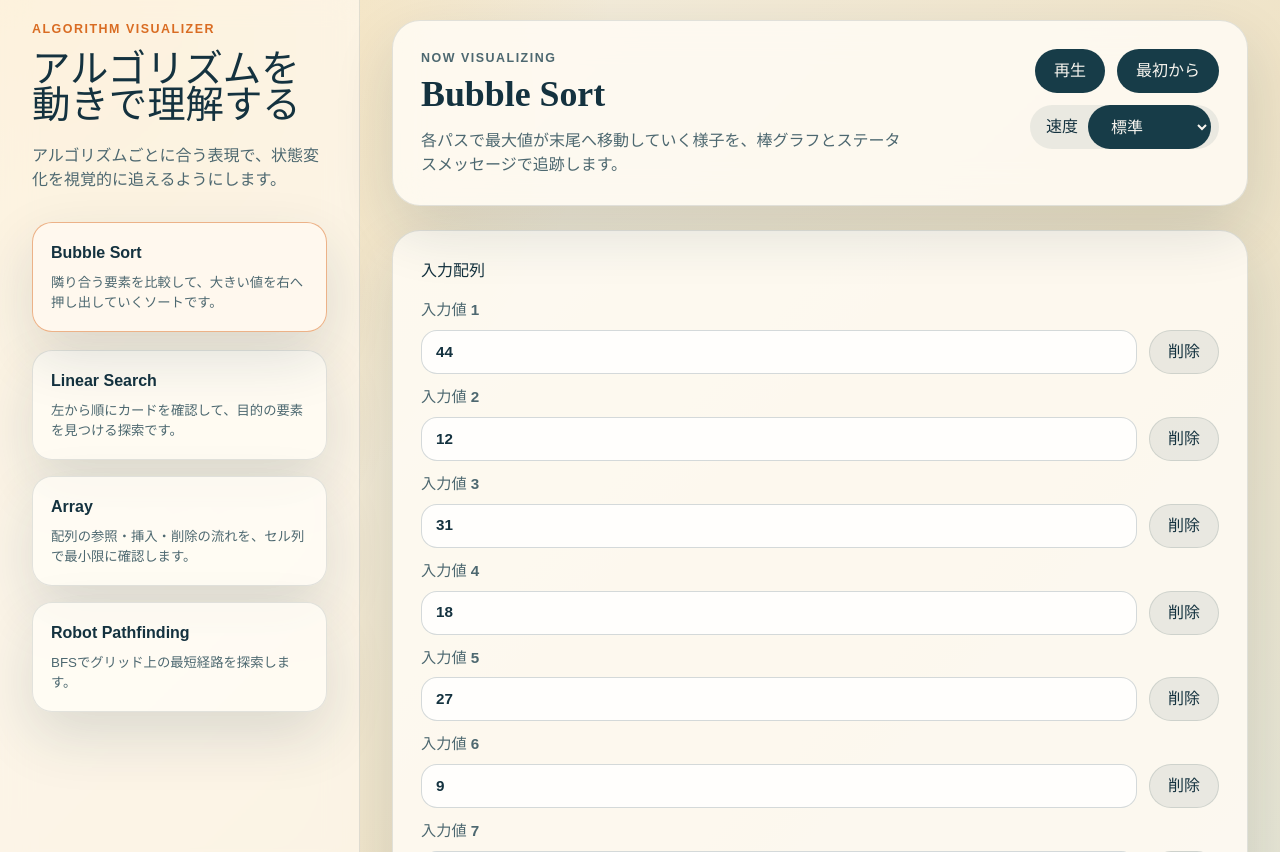
App › shows validation errors without replacing the last applied visualization
This screenshot has width=1280, height=852.
Click the button "再生": (1070, 71) [1035,49,1105,93]
Wait 900 ms
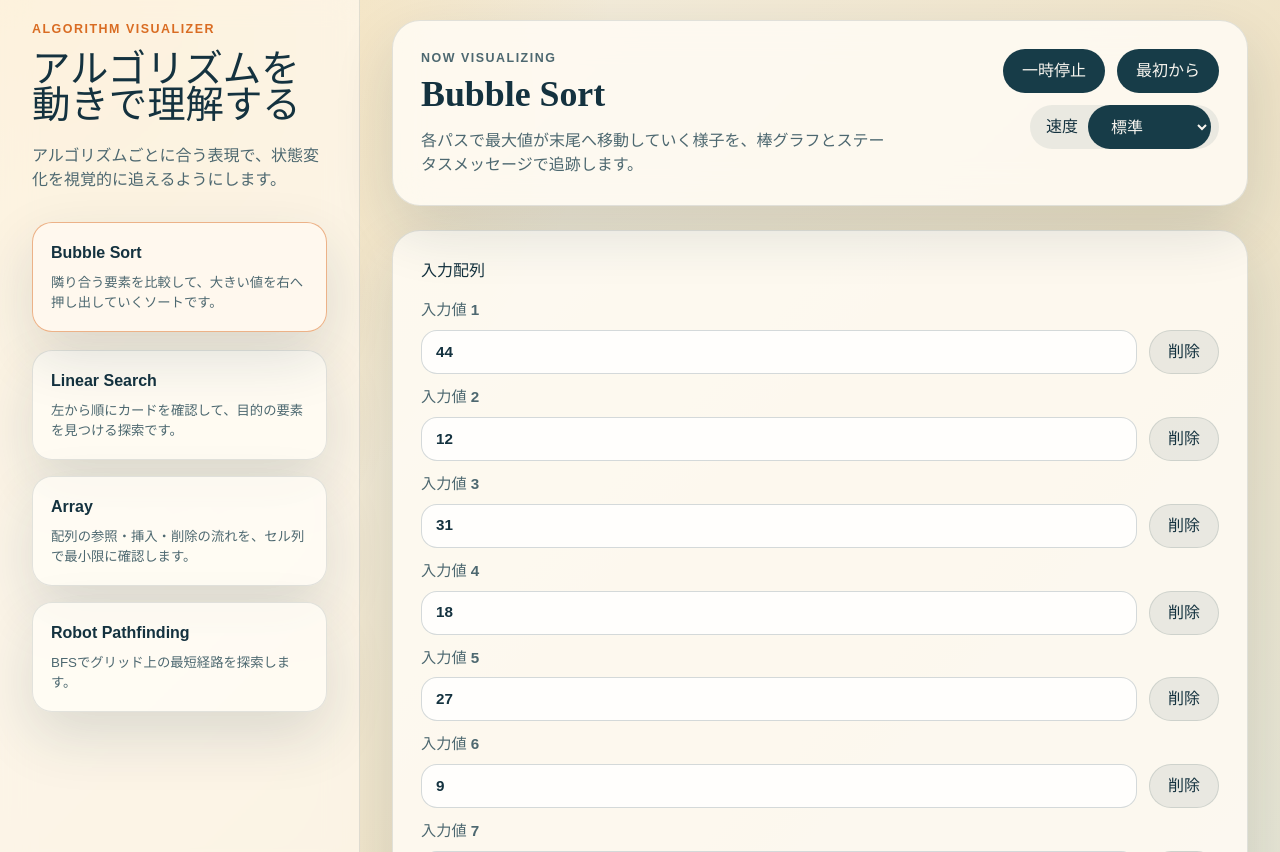
Clear the number field labelled "入力値 1": (779, 352) [421,330,1137,374]
(page scrolled)
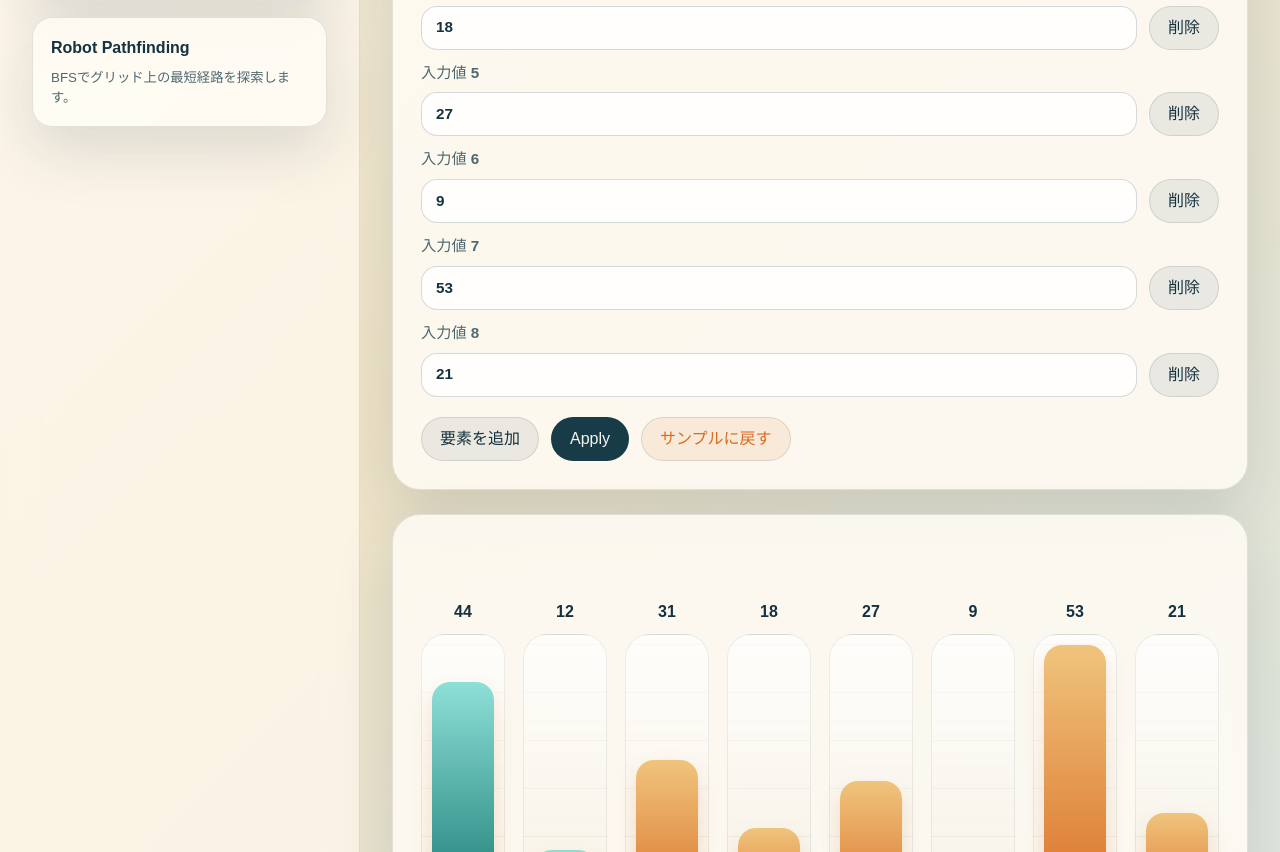
Click the button "Apply": (590, 439) [551,417,629,461]
(page scrolled)
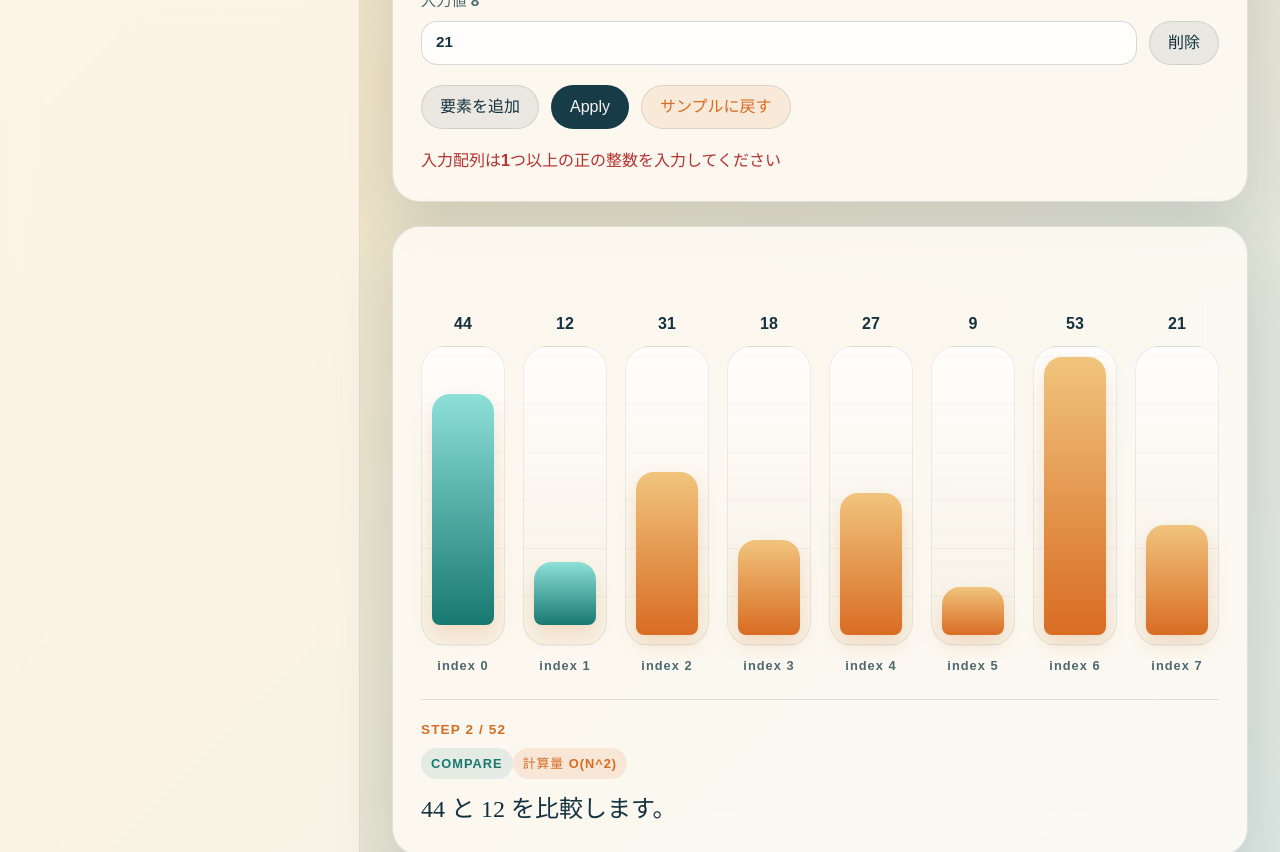
Expected: the text "44 と 12 を比較します。" is shown, [421,796,677,822]
Expected: the text "入力配列は1つ以上の正の整数を入力してください" is shown, [421,152,781,169]
